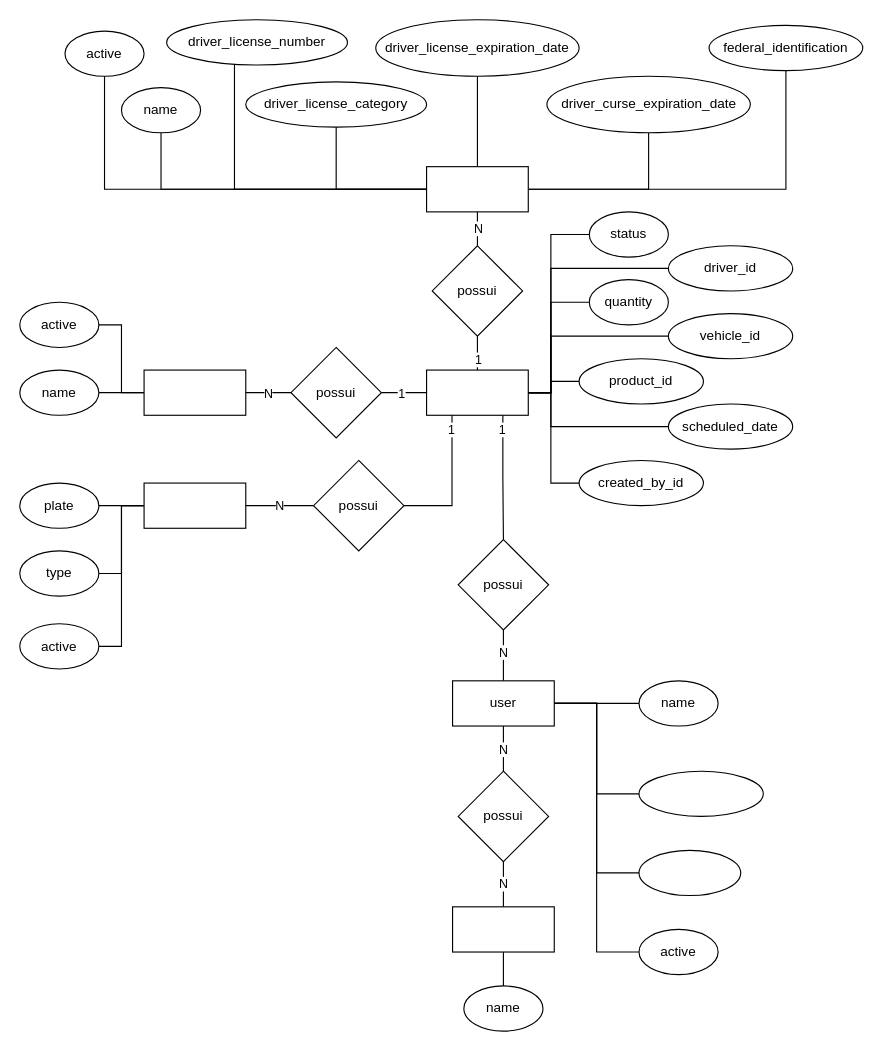
Image size: 883x1051. Some labels were removed from this diagram. Each missing label, with the box of its shape:
driver: (425, 166, 528, 212)
order: (425, 369, 528, 415)
password_hash: (638, 770, 763, 816)
product: (143, 369, 246, 415)
role: (451, 906, 554, 952)
user_name: (638, 849, 741, 896)
vehicle: (143, 482, 246, 528)
